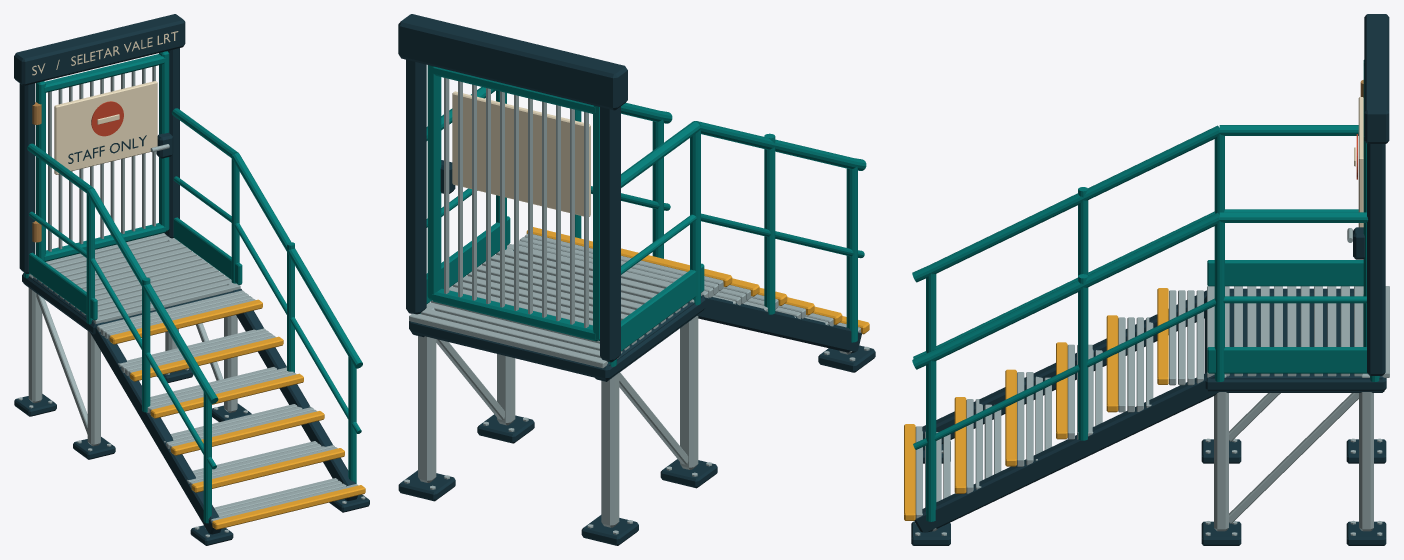
3 renders of one model, left to right at view 1: azimuth 30°, elevation 25°; view 2: azimuth 150°, elevation 25°; view 3: azimuth 270°, elevation 25°, orthographic. The views are drawn at different scales.
Parts seen in each view (by area): view 1: Open steel treads, Continuous handrails, Nosings, Landing grating, Enamel warning plaque, Guardrail stanchions, Station lintel, Inclined stringers, Gateposts, Guard bars, Support legs, Kick plates (+7 smaller); view 2: Guard bars, Station lintel, Landing grating, Gateposts, Support legs, Enamel warning plaque, Guardrail stanchions, Continuous handrails, Ground shoes, Gate stiles, Kick plates, Gate rails (+6 smaller); view 3: Continuous handrails, Open steel treads, Inclined stringers, Kick plates, Guardrail stanchions, Landing grating, Nosings, Landing frame, Gateposts, Support legs, Ground shoes, Station lintel (+4 smaller).
Part boxes in pixels (x1=…): Open steel treads: x1=97, y1=290, x2=357, y2=522; Continuous handrails: x1=27, y1=108, x2=362, y2=469; Nosings: x1=109, y1=299, x2=365, y2=529; Landing grating: x1=30, y1=233, x2=240, y2=324; Enamel warning plaque: x1=54, y1=81, x2=157, y2=174; Guardrail stanchions: x1=24, y1=158, x2=356, y2=523; Station lintel: x1=14, y1=14, x2=185, y2=85; Inclined stringers: x1=90, y1=289, x2=357, y2=534; Gateposts: x1=19, y1=48, x2=179, y2=273; Guard bars: x1=48, y1=66, x2=155, y2=251; Support legs: x1=28, y1=238, x2=237, y2=528; Kick plates: x1=29, y1=217, x2=242, y2=320; Guard bars: x1=444, y1=77, x2=588, y2=327; Station lintel: x1=398, y1=14, x2=627, y2=110; Landing grating: x1=409, y1=243, x2=702, y2=368; Gateposts: x1=406, y1=59, x2=620, y2=362; Support legs: x1=418, y1=248, x2=852, y2=527; Enamel warning plaque: x1=452, y1=91, x2=590, y2=216; Guardrail stanchions: x1=420, y1=90, x2=857, y2=366; Continuous handrails: x1=426, y1=87, x2=866, y2=274; Ground shoes: x1=398, y1=345, x2=875, y2=545; Gate stiles: x1=427, y1=65, x2=599, y2=340; Kick plates: x1=426, y1=216, x2=704, y2=351; Gate rails: x1=432, y1=67, x2=597, y2=341; Continuous handrails: x1=912, y1=125, x2=1367, y2=449; Open steel treads: x1=915, y1=290, x2=1203, y2=518; Inclined stringers: x1=914, y1=290, x2=1218, y2=532; Kick plates: x1=1207, y1=260, x2=1367, y2=373; Guardrail stanchions: x1=926, y1=134, x2=1379, y2=521; Landing grating: x1=1207, y1=286, x2=1389, y2=377; Nosings: x1=904, y1=288, x2=1168, y2=520; Landing frame: x1=1204, y1=295, x2=1386, y2=391; Gateposts: x1=1367, y1=144, x2=1385, y2=375; Support legs: x1=932, y1=286, x2=1373, y2=531; Ground shoes: x1=911, y1=439, x2=1386, y2=545; Station lintel: x1=1364, y1=14, x2=1389, y2=143.
Bounding box in the file's own units: 1.42 × 2.91 × 2.95.
